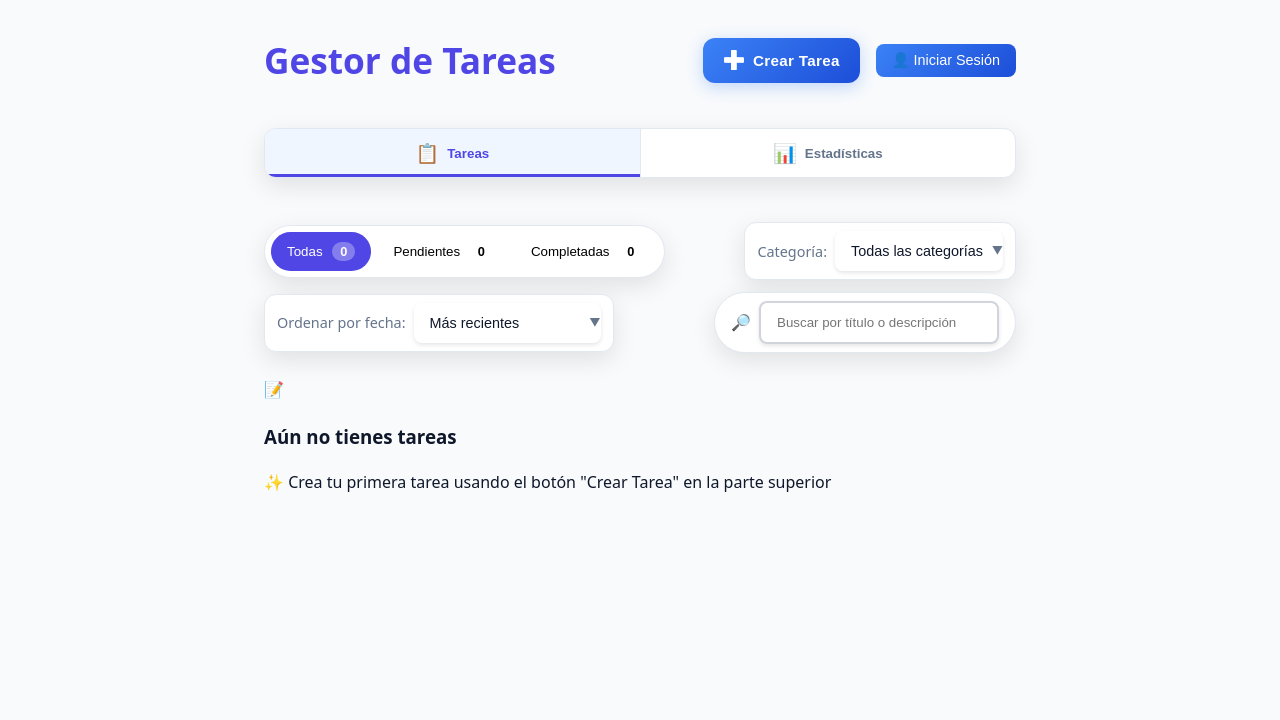
Test: Gestor de Tareas - App Principal › 1. Crear Tarea › debe cerrar el modal después de crear una tarea exitosamente
Abrir modal de nueva tarea
Click the button with aria-label "crear nueva tarea": (781, 60) 703,38 -> 860,83
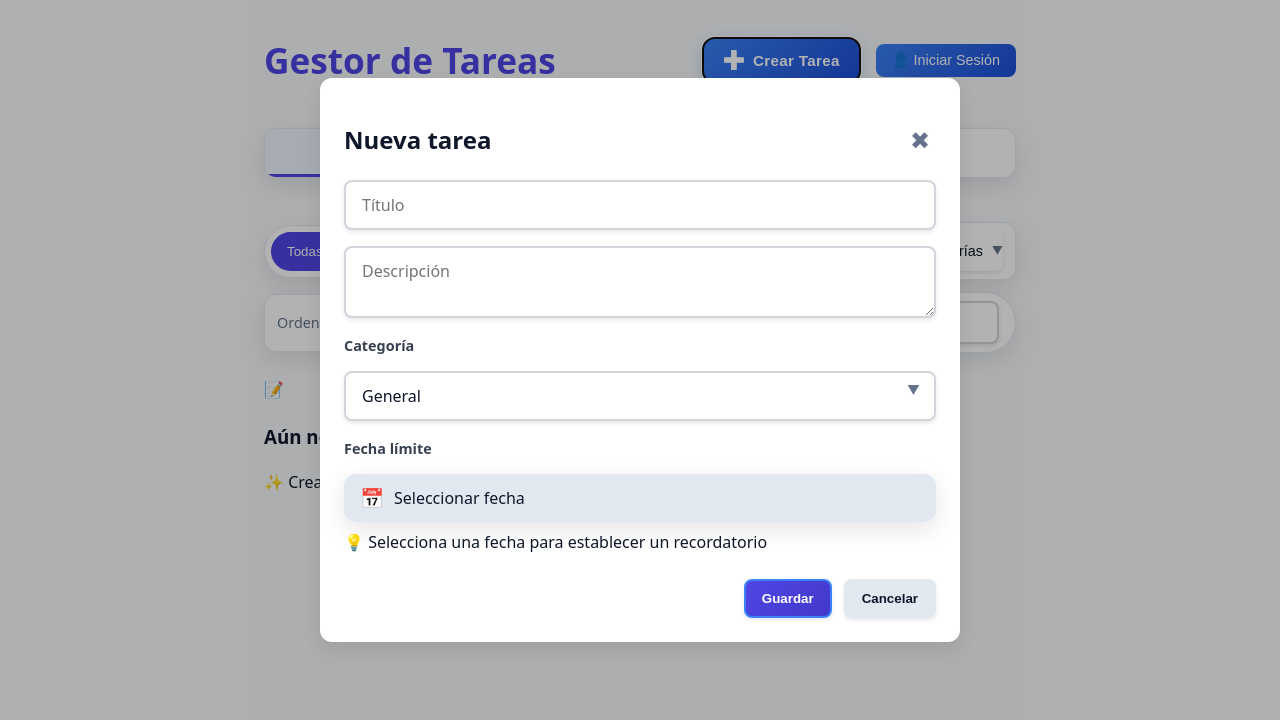
In the field with placeholder "Título": (640, 205) 344,180 -> 936,230, type "Tarea de prueba"
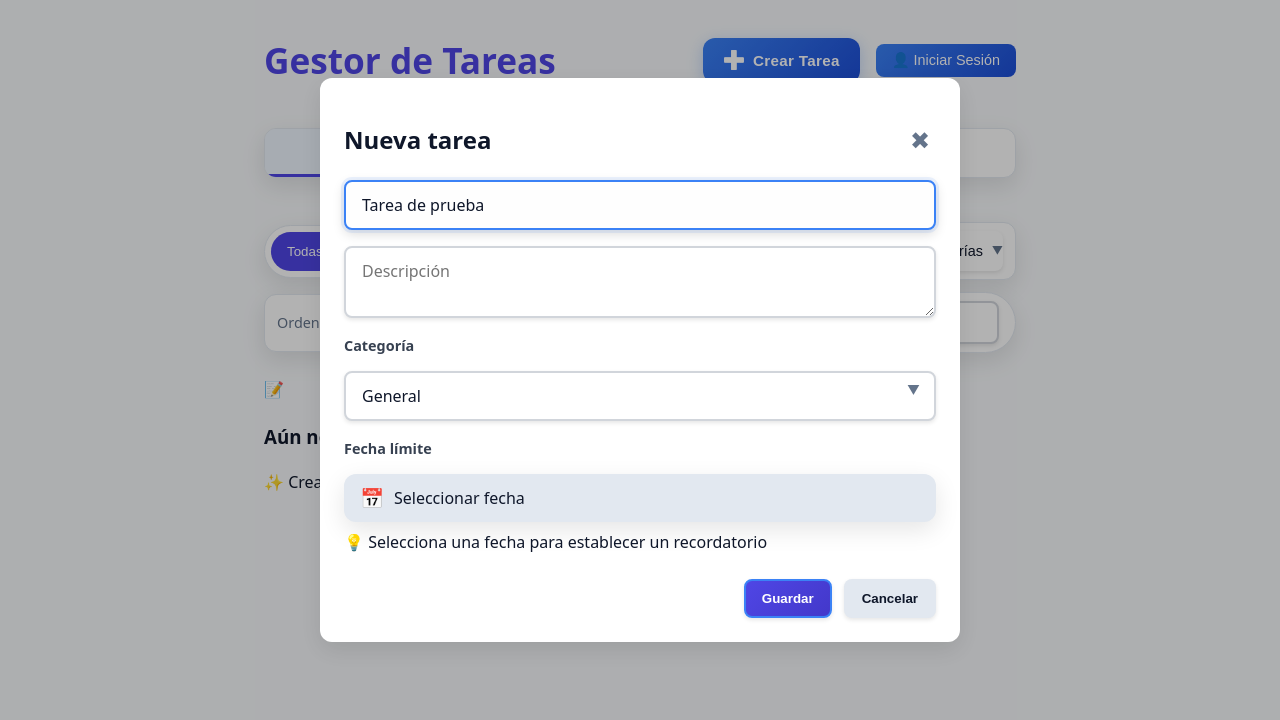
Click the button "Guardar": (788, 599) 744,579 -> 832,618
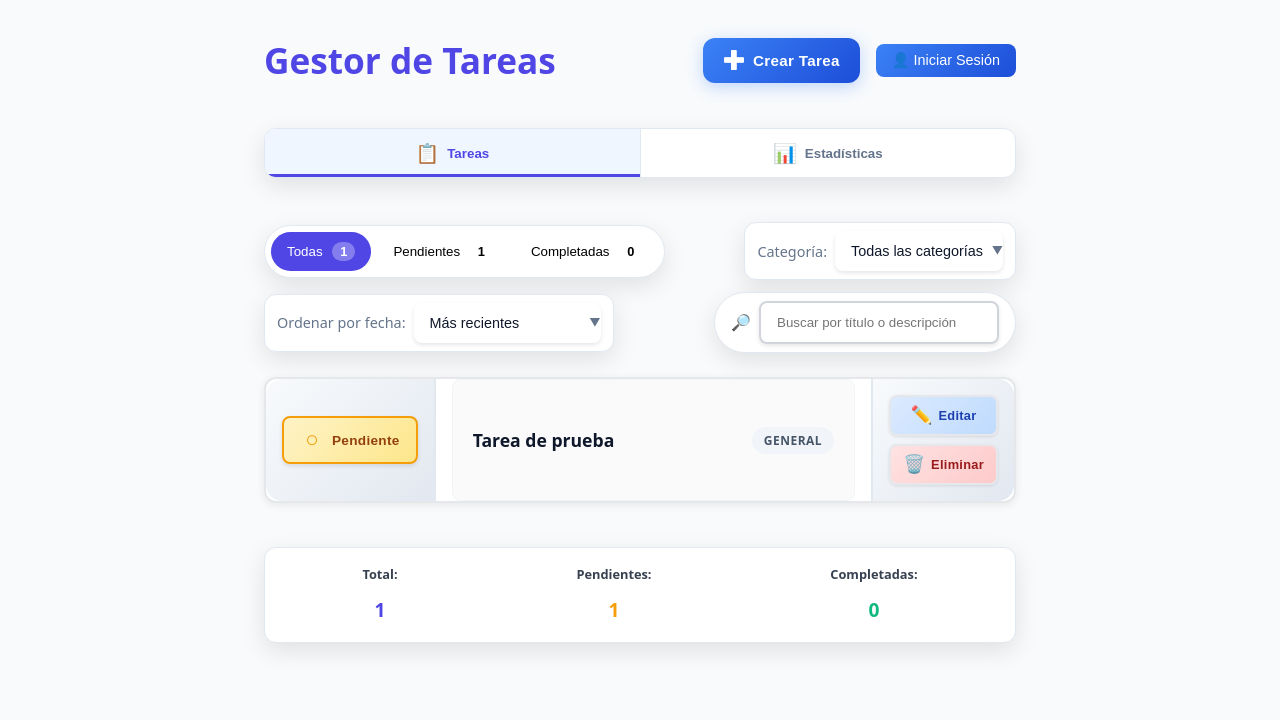
Expected: the heading "Nueva tarea" is gone
